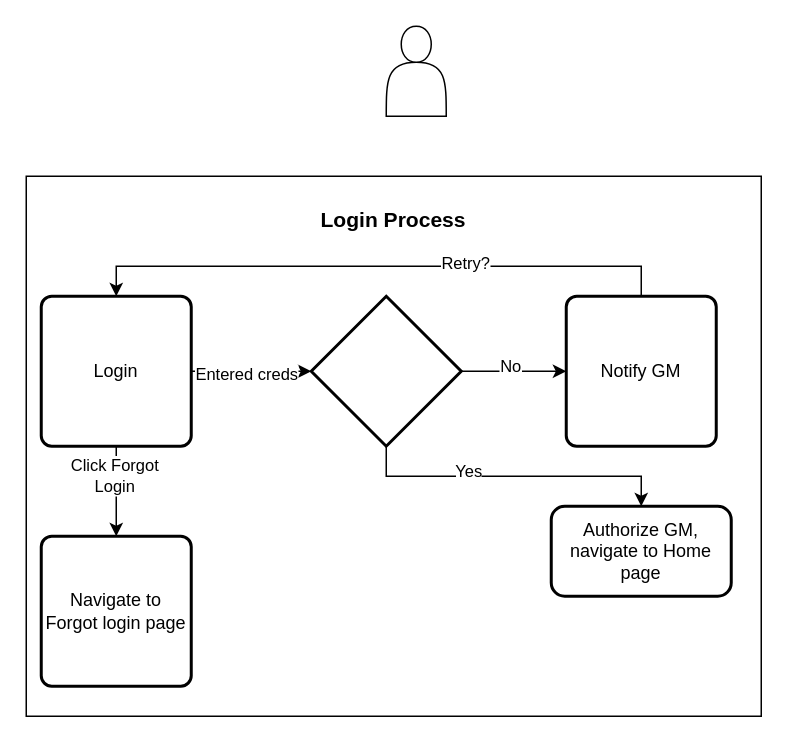
The diagram is 788 pixels wide and 743 high, and some of its shapes have lost their labels. Each missing label, with the centre of its shape:
"Are creds legit?" belongs at (385,370).
"GM" belongs at (415,70).
